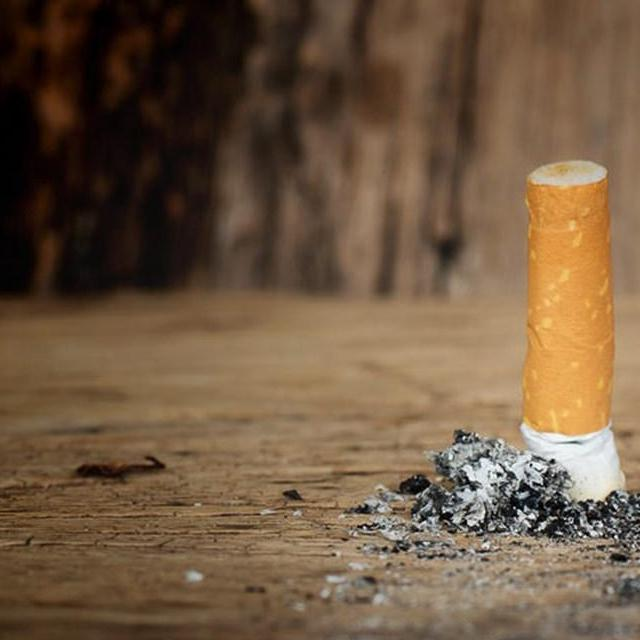Cigarette Butt: (518, 158, 629, 509)
